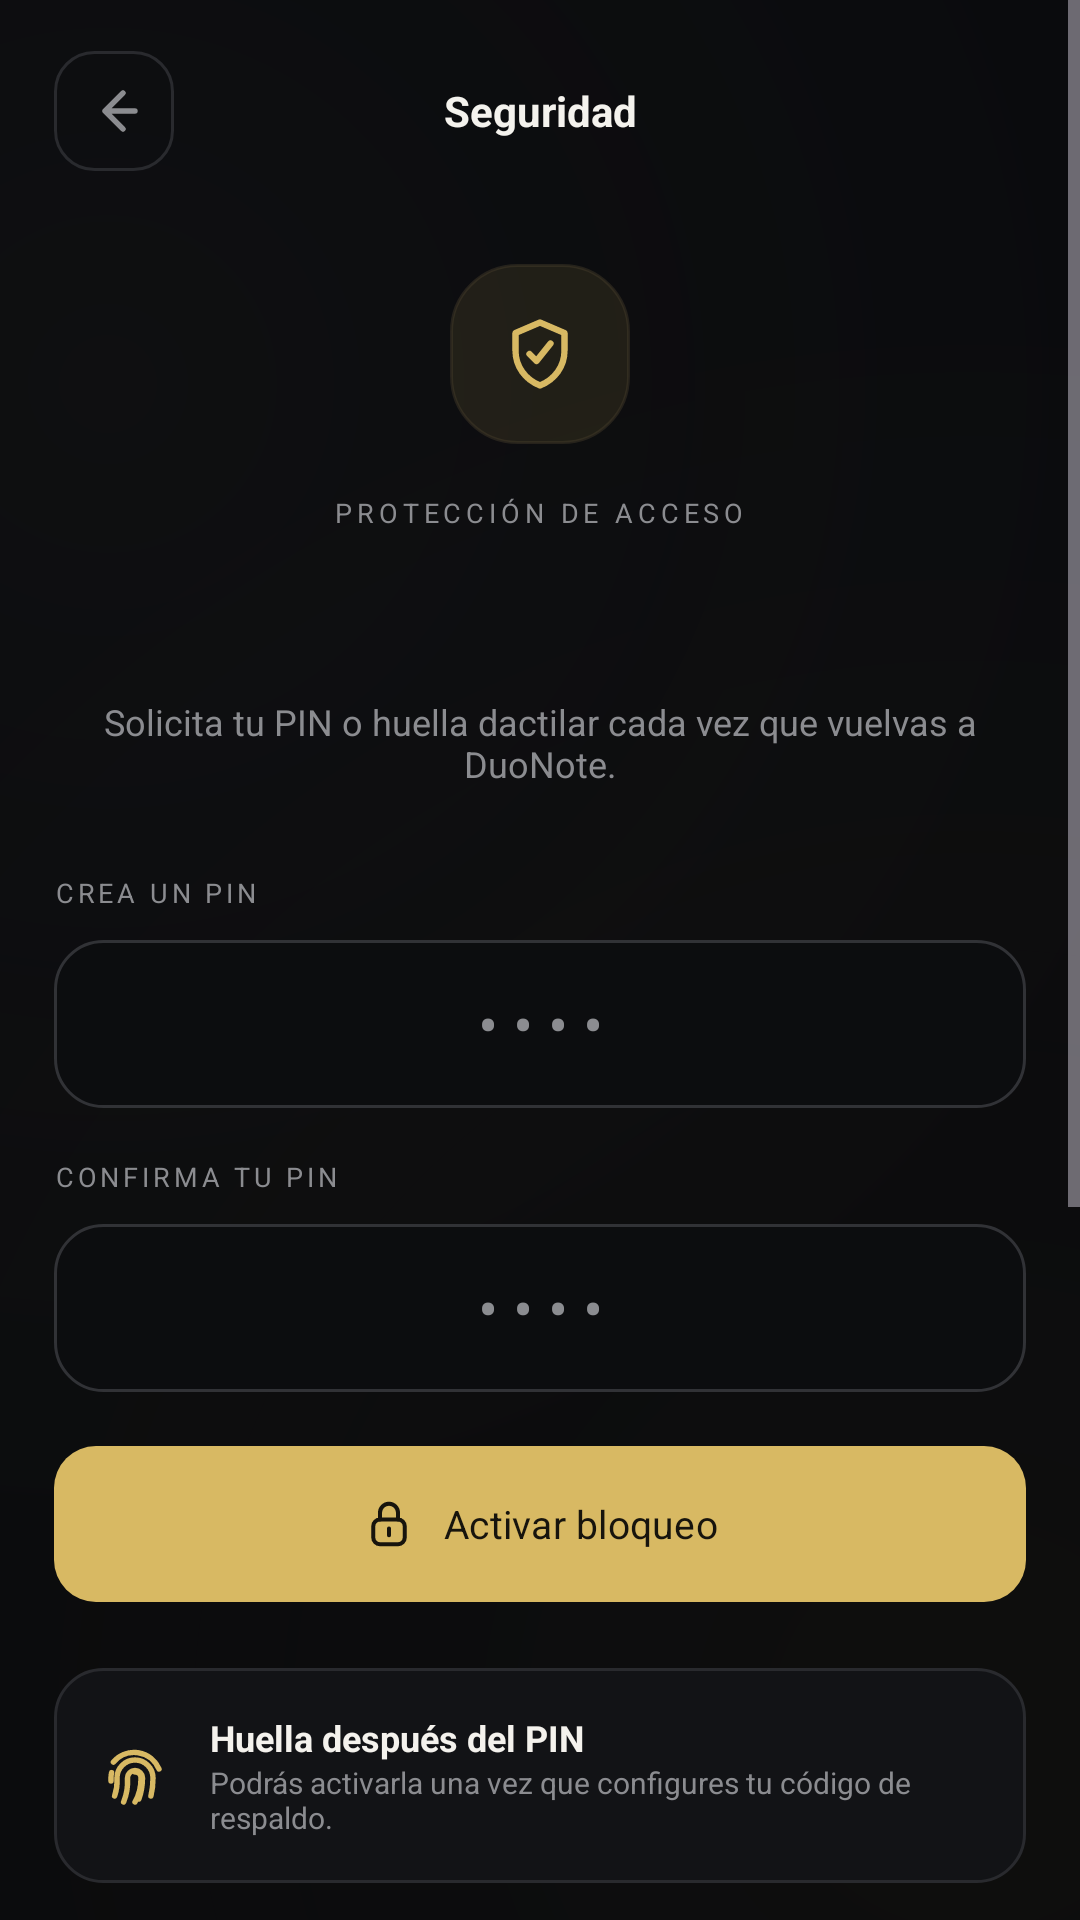

Locate icon controls on the screen. Image size 1080px x 1920px, boxes as (x1, y1, x2, y2).
fingerprint: (108, 1749, 162, 1805)
security shield: (450, 264, 630, 444)
Volver: (54, 51, 174, 171)
